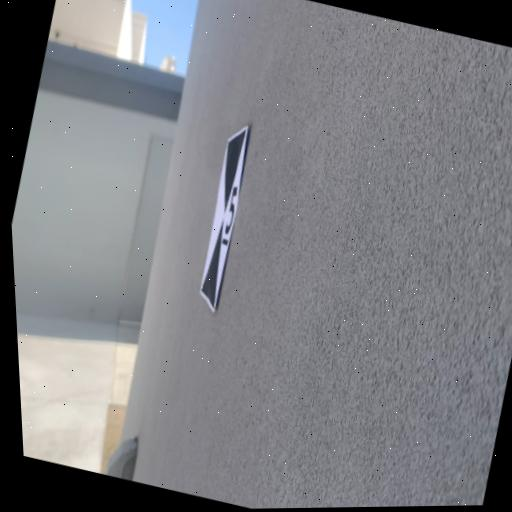target5: (200, 126, 249, 314)
